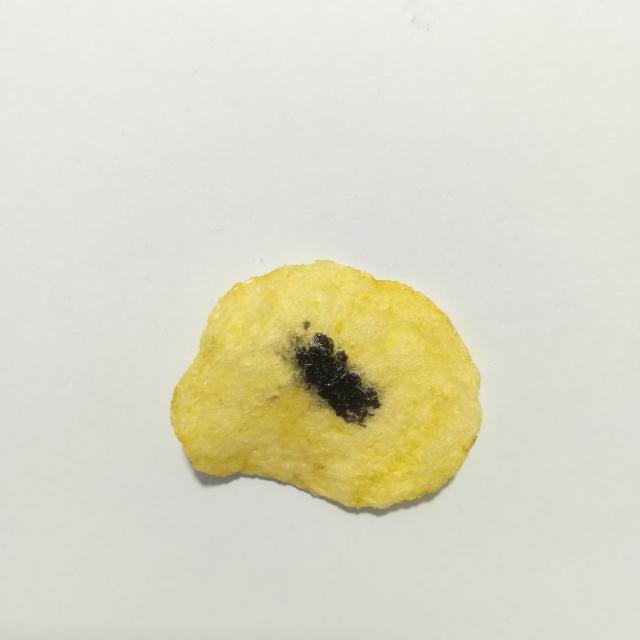chip: (171, 260, 482, 508)
damaged: (294, 333, 380, 425)
semi-damaged: (276, 332, 335, 414), (348, 357, 385, 407), (266, 394, 278, 401)
